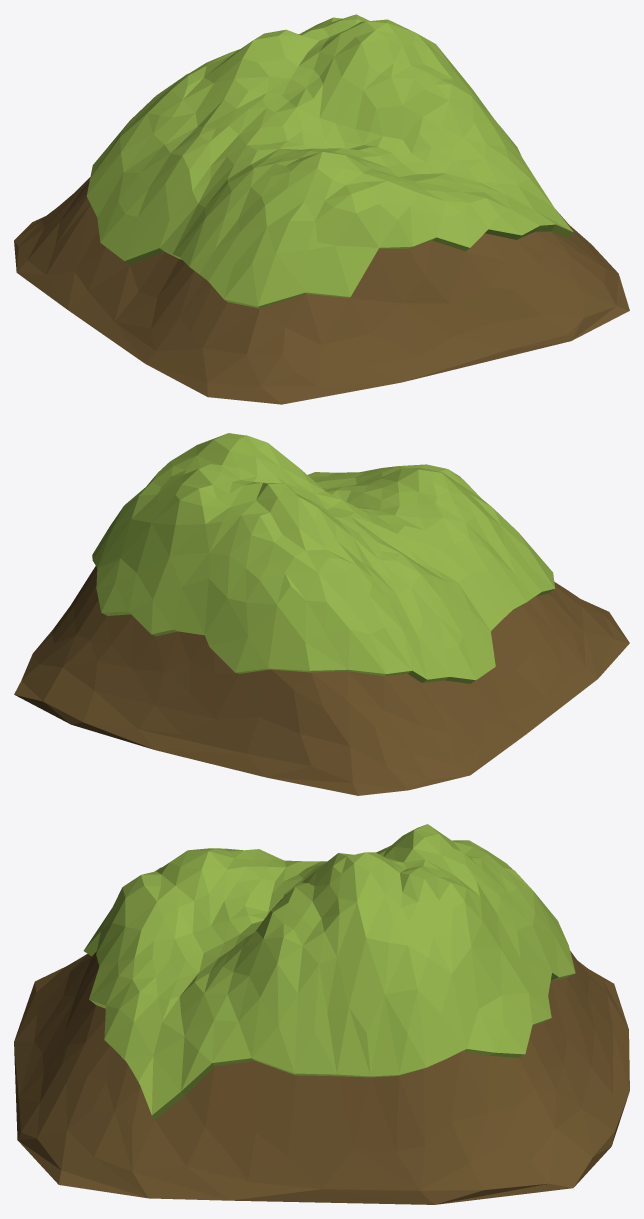
The model's file is mountain2.fbx.
The picture shows the model from 3 angles, top to bottom: view 1: azimuth 30°, elevation 25°; view 2: azimuth 150°, elevation 25°; view 3: azimuth 270°, elevation 25°; orthographic projection. The views are drawn at different scales.
Parts seen in each view (by area): view 1: mountain2_LOD0; view 2: mountain2_LOD0; view 3: mountain2_LOD0.
Boxes of the visible parts, x1,y1,x2,y2 form: mountain2_LOD0: (14, 14, 629, 404); mountain2_LOD0: (14, 433, 629, 795); mountain2_LOD0: (14, 824, 629, 1204).
Size of what is drawn, in the model's own units: 158 by 73.58 by 159.
